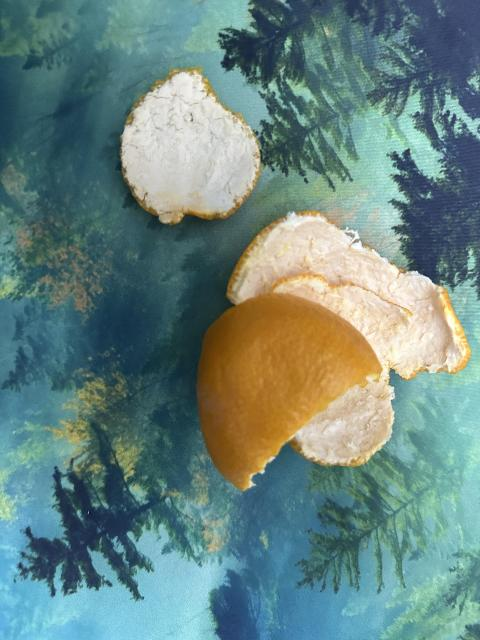Organik: (232, 211, 468, 470), (195, 292, 386, 489), (114, 63, 260, 229)
